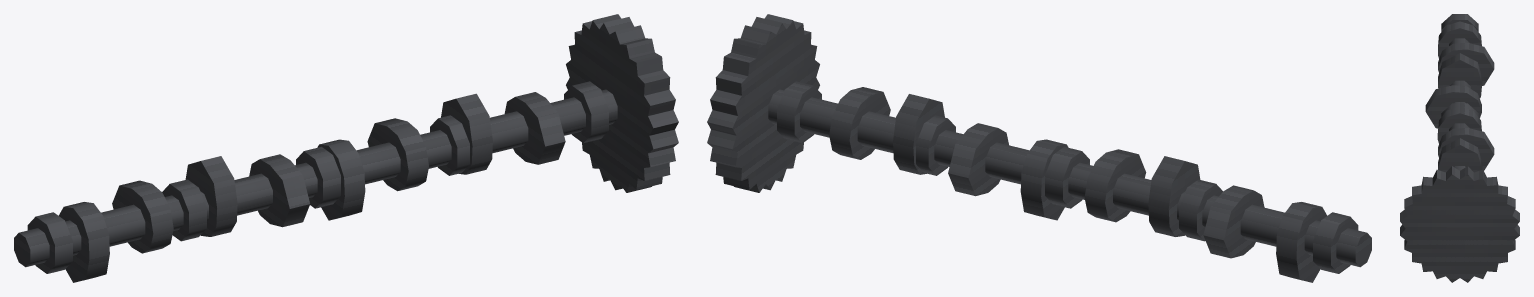
File: comando_fabrica.glb
3 views of the same model, side by side, from view 1: azimuth 30°, elevation 25°; view 2: azimuth 150°, elevation 25°; view 3: azimuth 270°, elevation 25° (orthographic). The views are drawn at different scales.
Parts seen in each view (by area): view 1: comando_fabrica; view 2: comando_fabrica; view 3: comando_fabrica.
Boxes of the visible parts, <box> form: comando_fabrica: <box>14,14,678,282</box>; comando_fabrica: <box>707,14,1371,282</box>; comando_fabrica: <box>1400,14,1519,282</box>.
Size of the model in its own units: 0.48 by 0.119 by 0.119.
Materials: 1 (1 with a texture image).
